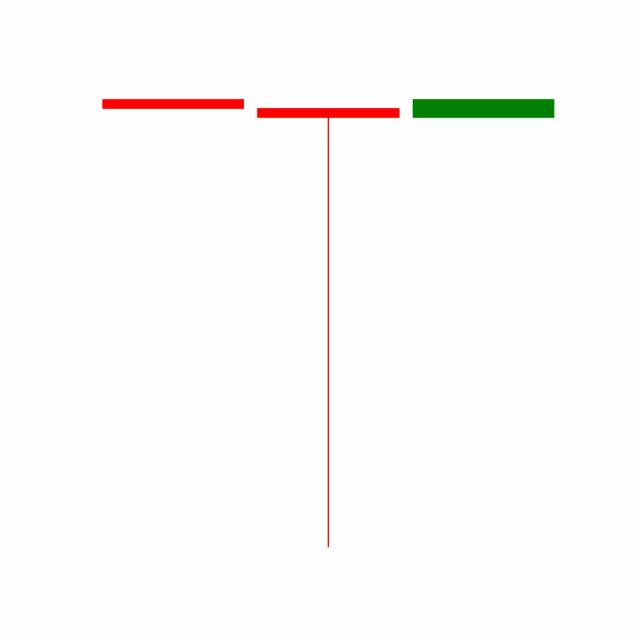Hanging Man: (249, 103, 406, 552)
